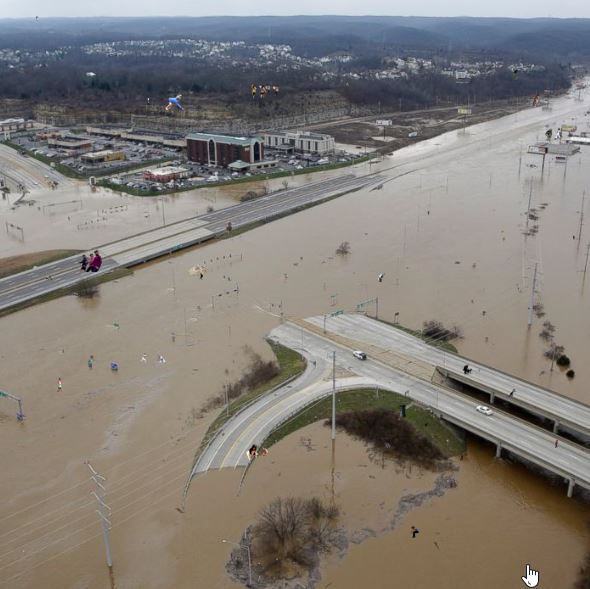Human: (78, 250, 102, 272), (251, 84, 279, 101), (246, 444, 268, 460), (165, 94, 184, 111), (139, 353, 166, 364), (392, 404, 413, 418), (545, 128, 563, 142), (513, 68, 530, 81), (462, 364, 480, 375), (88, 355, 99, 370), (379, 437, 391, 449), (533, 93, 540, 109), (410, 526, 419, 538), (226, 221, 233, 235), (507, 389, 517, 398), (57, 378, 63, 392), (378, 273, 387, 282), (193, 273, 203, 280), (460, 452, 465, 461), (150, 178, 161, 182), (308, 440, 314, 447), (555, 440, 559, 448), (46, 276, 54, 280), (424, 211, 430, 215), (425, 423, 429, 426), (528, 581, 531, 585), (302, 131, 306, 134), (23, 549, 25, 555), (36, 16, 38, 21), (573, 235, 575, 240), (147, 98, 149, 103), (346, 83, 349, 86)
